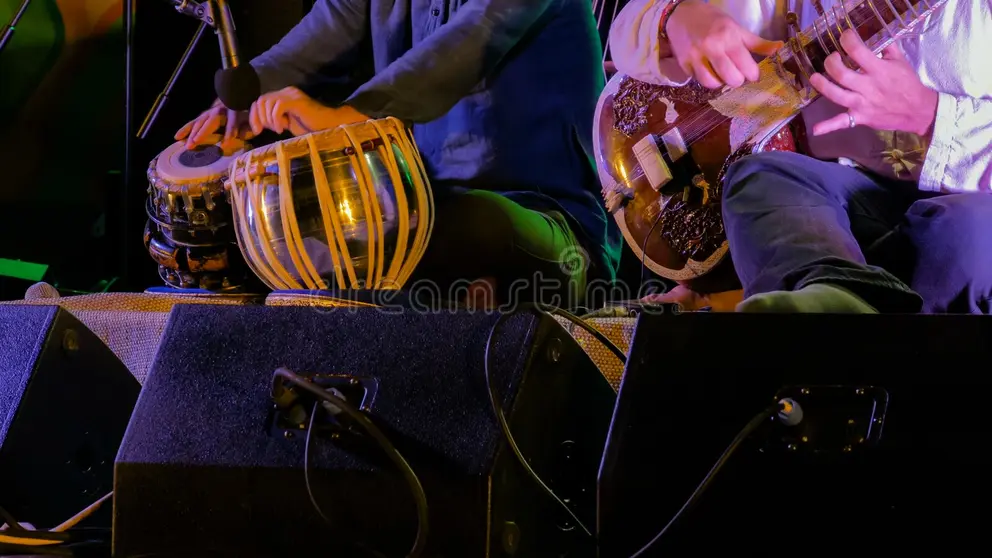tabla: (231, 118, 436, 289), (143, 130, 251, 286)
